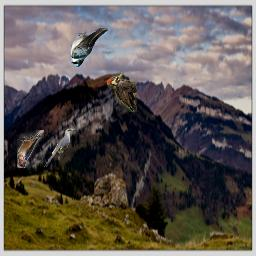Cuckoo: (44, 128, 77, 168)
Swallow: (70, 28, 108, 68), (17, 130, 44, 168)
Woodpecker: (107, 72, 137, 112)
